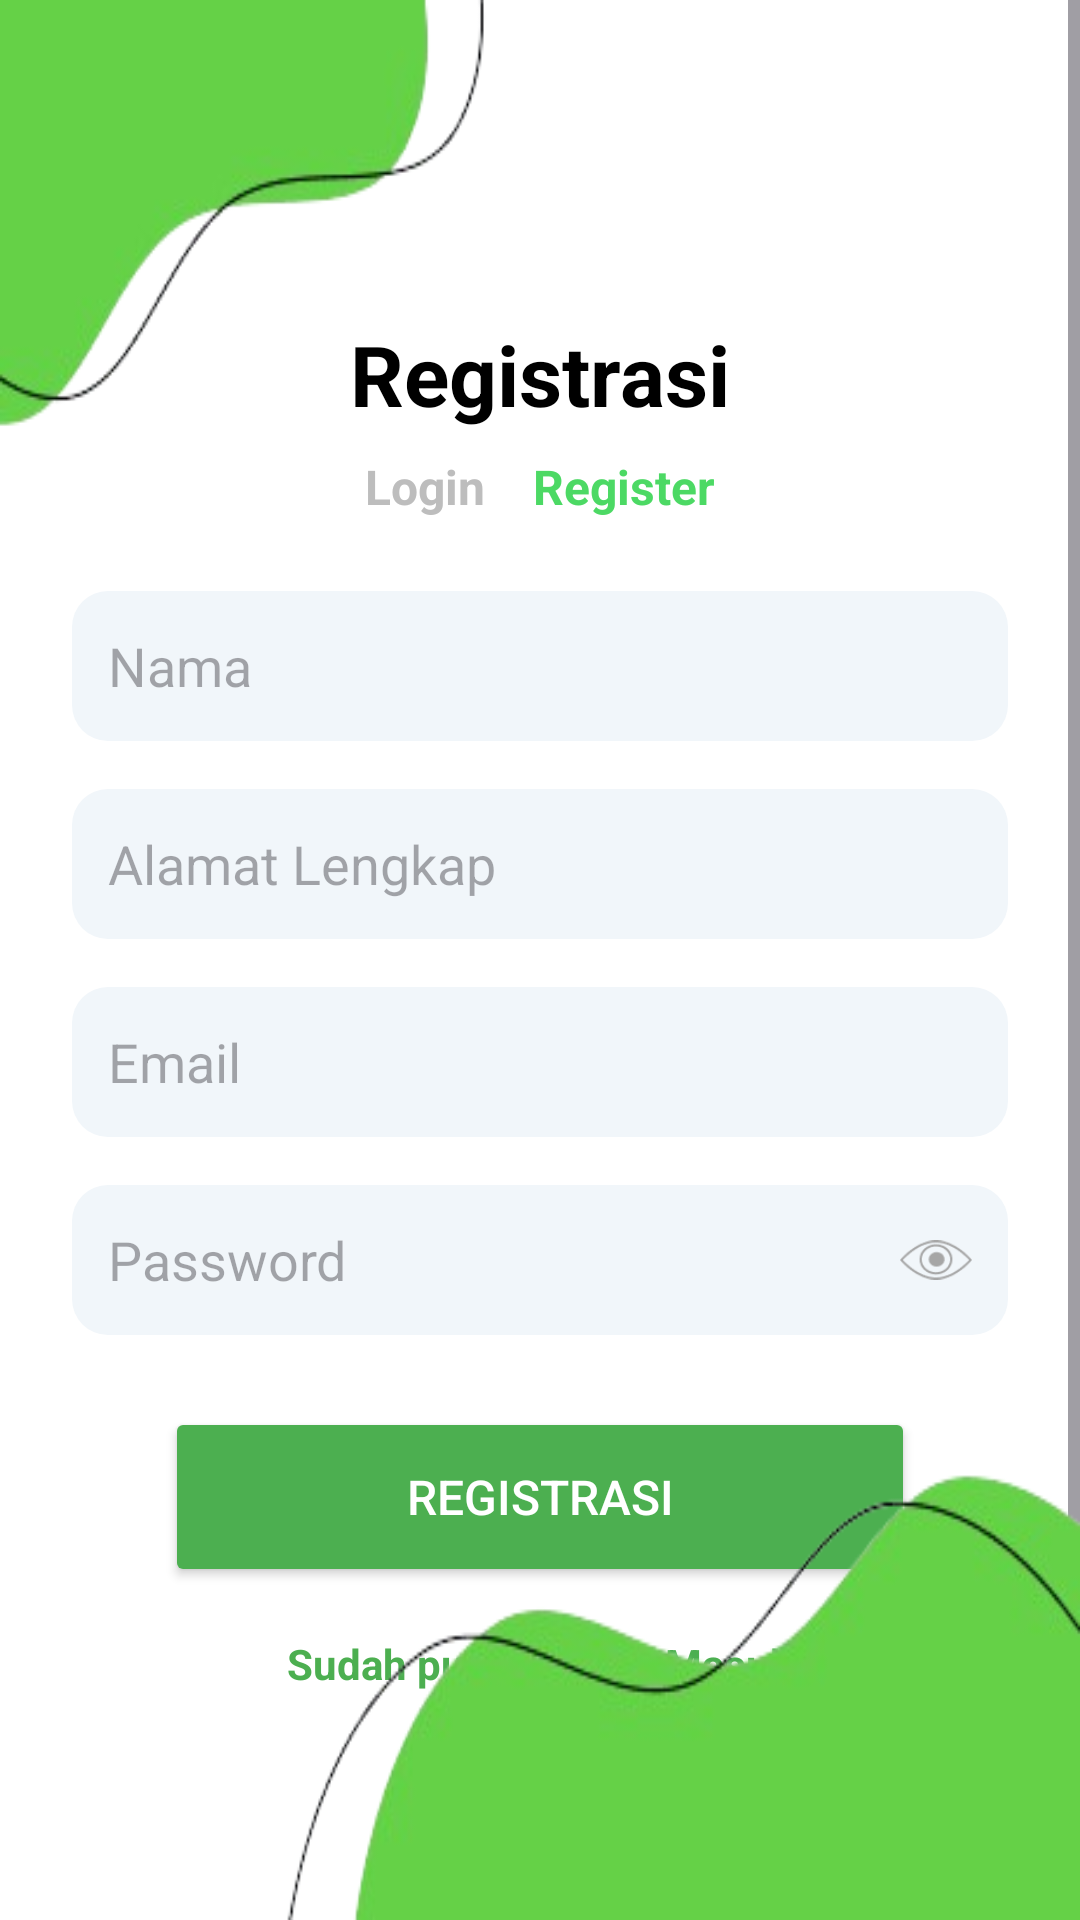

Icons on this 1080w x 1920h Android screen, each with its box as {"x1": x1, "y1": y1, "x2": x2, "y2": y2}:
eye: {"x1": 900, "y1": 1240, "x2": 972, "y2": 1280}
